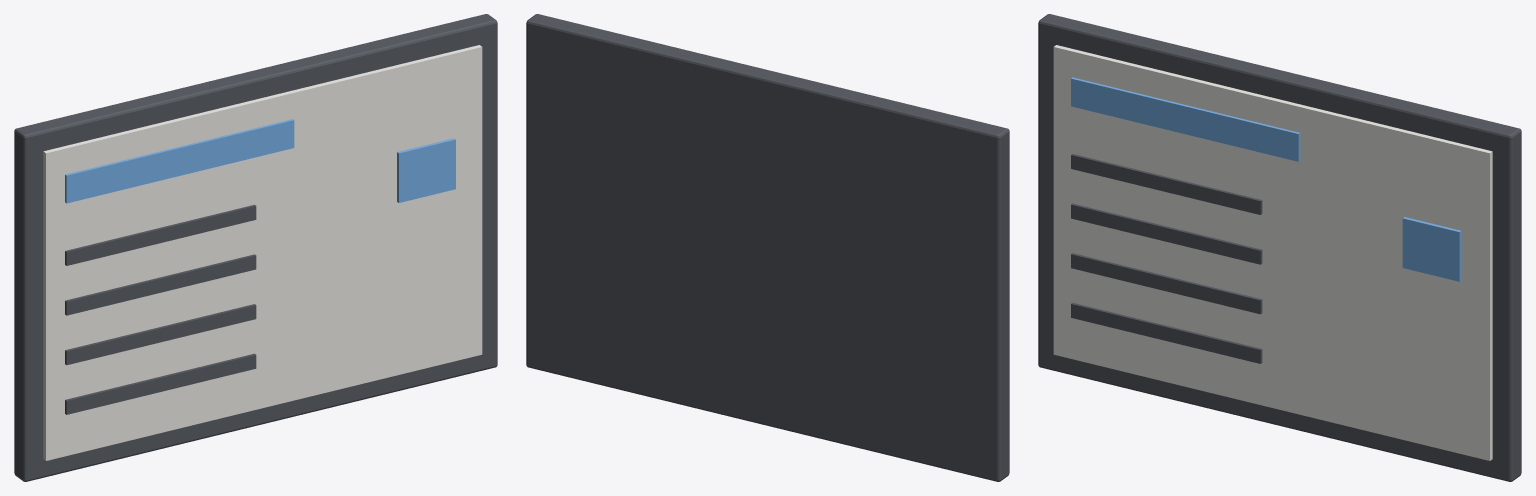
Rendered from sign_directory.glb.
3 renders of one model, left to right at view 1: azimuth 30°, elevation 25°; view 2: azimuth 150°, elevation 25°; view 3: azimuth 330°, elevation 25°, orthographic.
Visible parts, largest first — view 1: Sign_Directory; view 2: Sign_Directory; view 3: Sign_Directory.
Part boxes in pixels (x1,y1,x2,y2): Sign_Directory: (14, 14, 497, 481); Sign_Directory: (526, 14, 1009, 481); Sign_Directory: (1038, 14, 1521, 481).
Size of the model in its own units: 0.6 by 0.42 by 0.0342.
